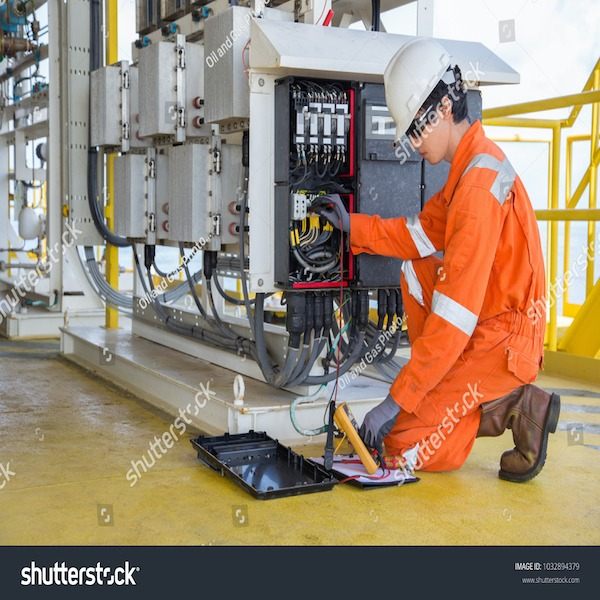helmet: (386, 33, 456, 125)
vest: (403, 129, 547, 446)
